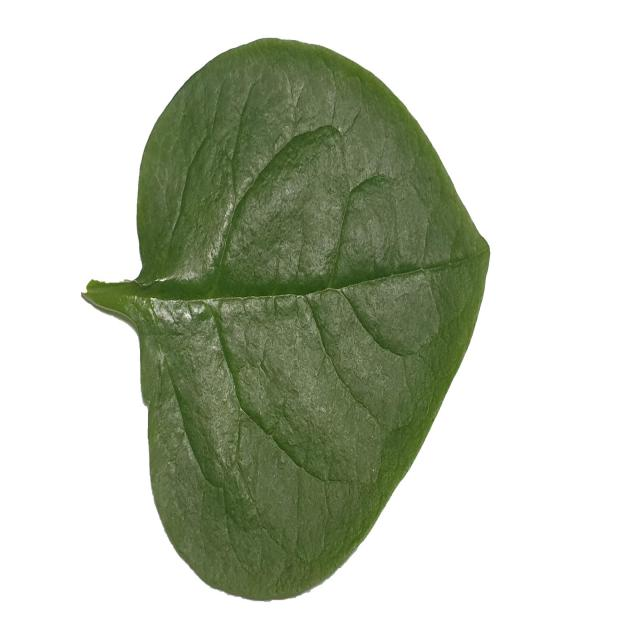Medicinal-Basale: (80, 38, 490, 602)
